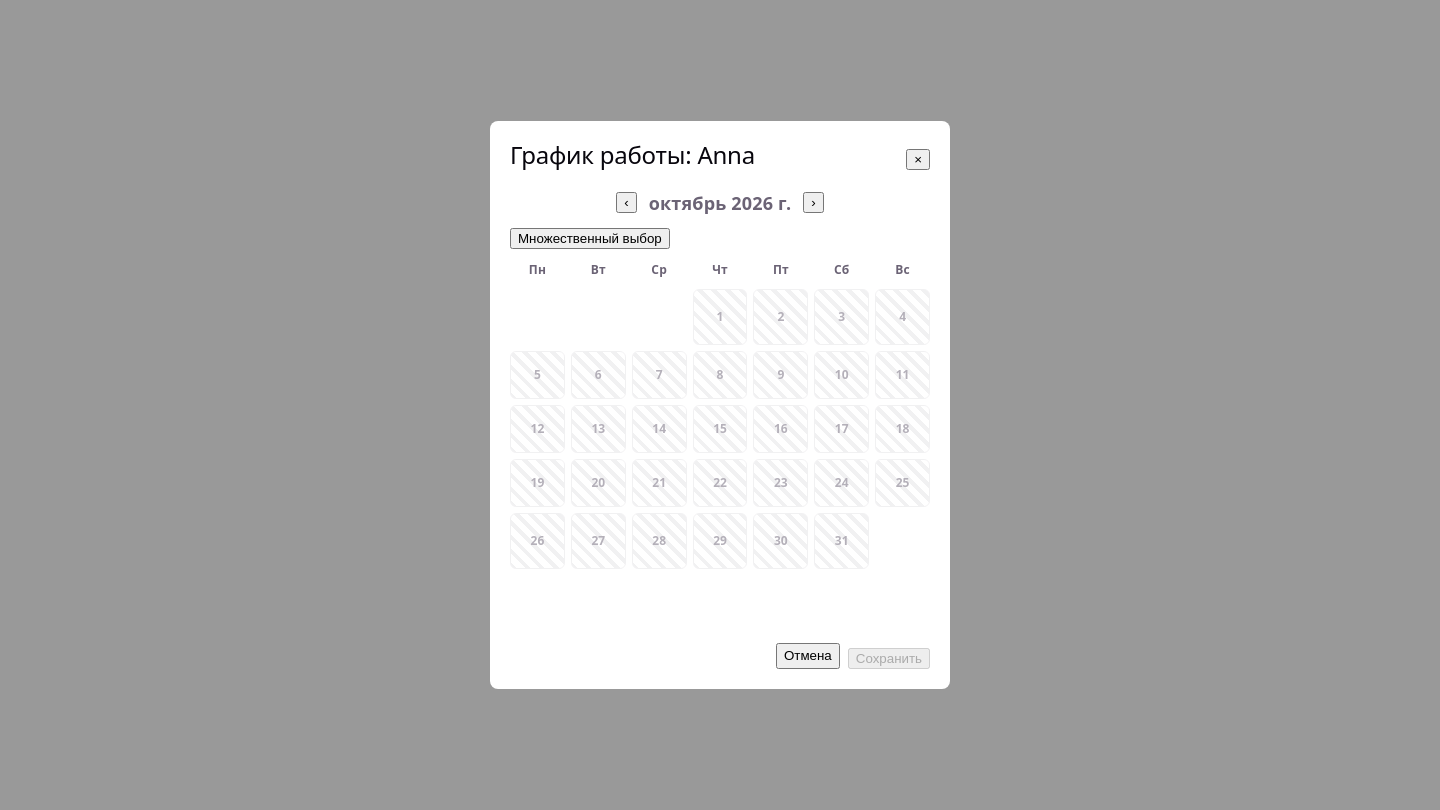
it: MasterScheduleModal › constrains working hours inputs to the salon hours (09:00–19:00)
The width and height of the screenshot is (1440, 810).
Click the button named "День 1" at [720, 317], box [693,289,748,345]
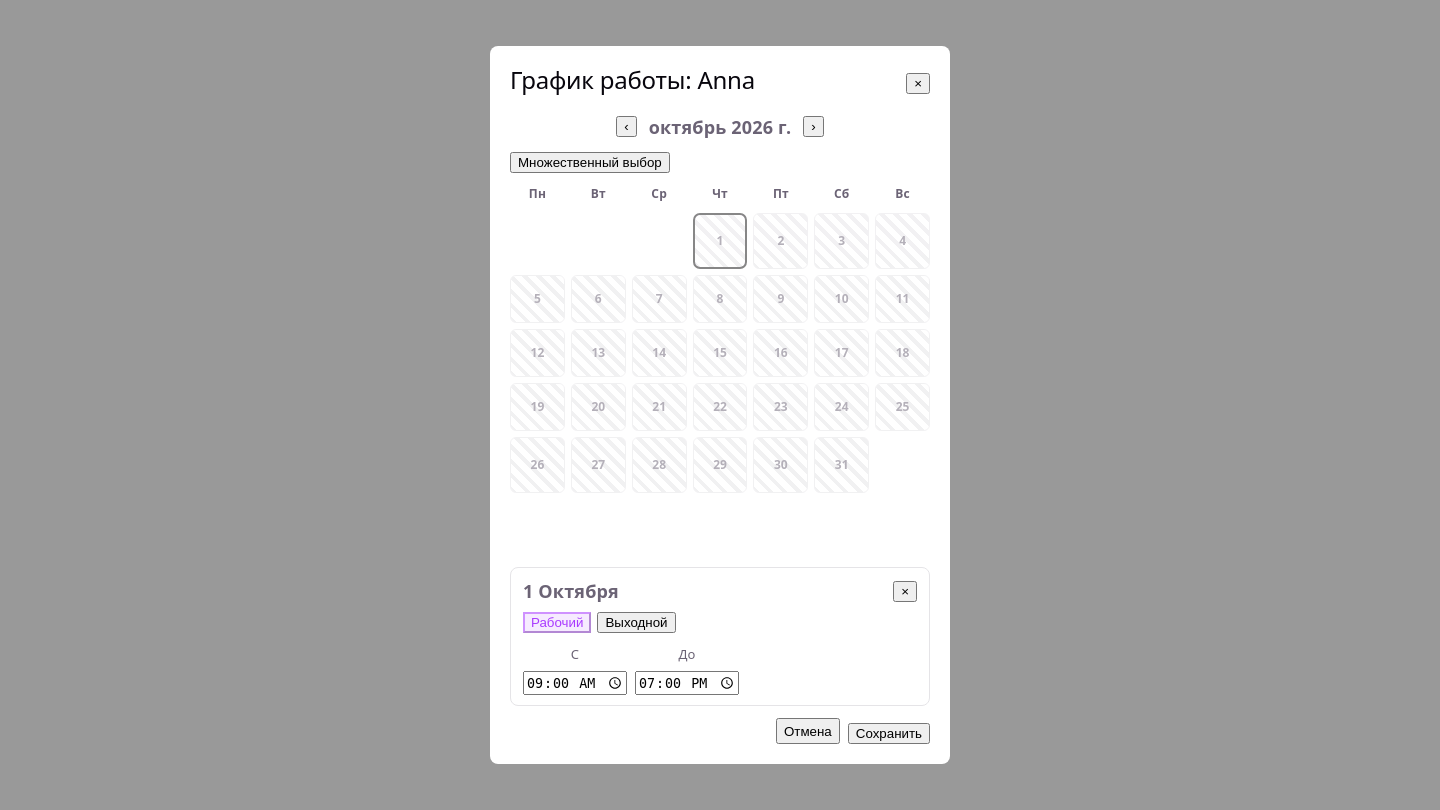
Click the button "Рабочий" at [557, 623], box [523,612,592,633]
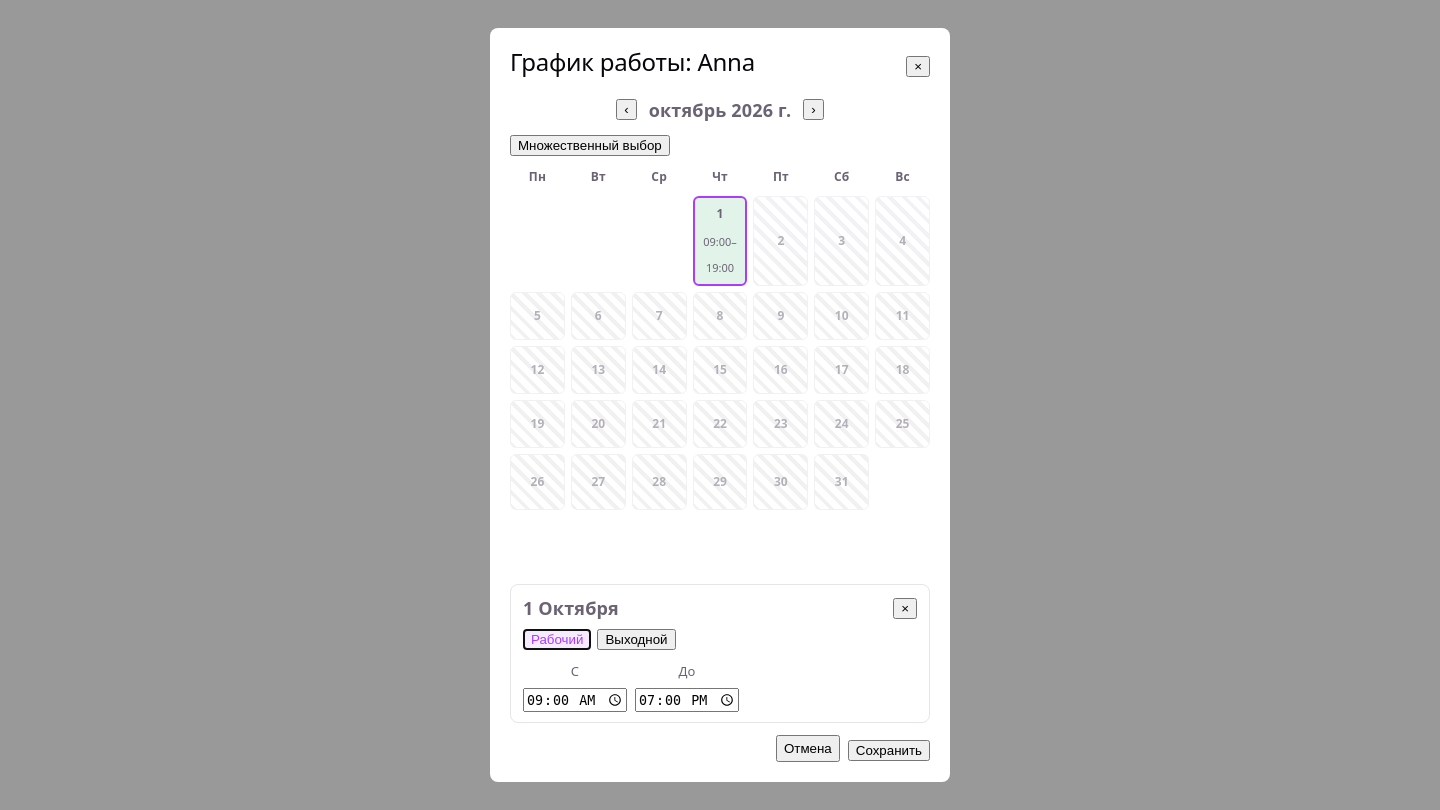
Clear the time field labelled "С" at [575, 700], box [523,688,627,712]
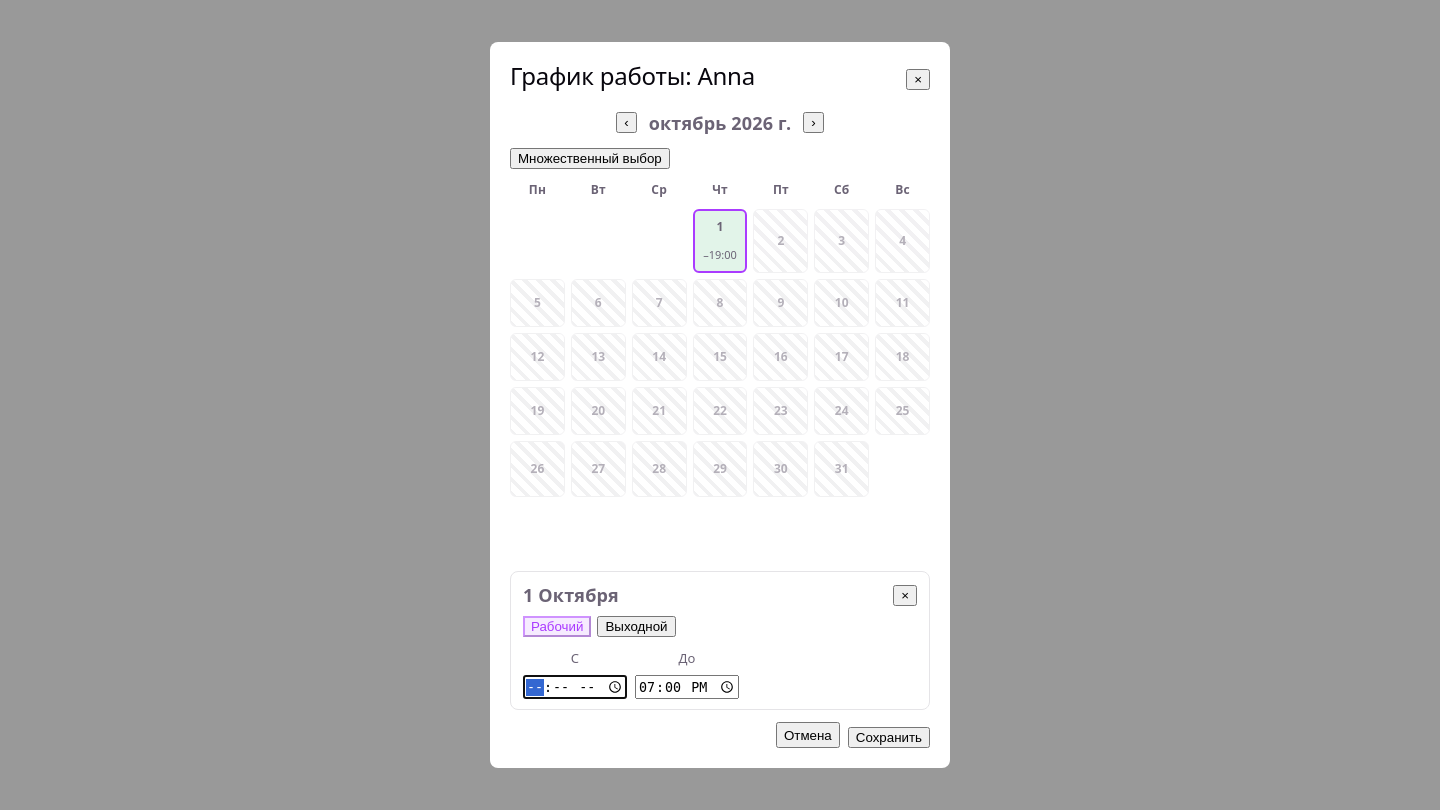
Type "06:00" into the time field labelled "С" at [575, 687], box [523,675,627,699]
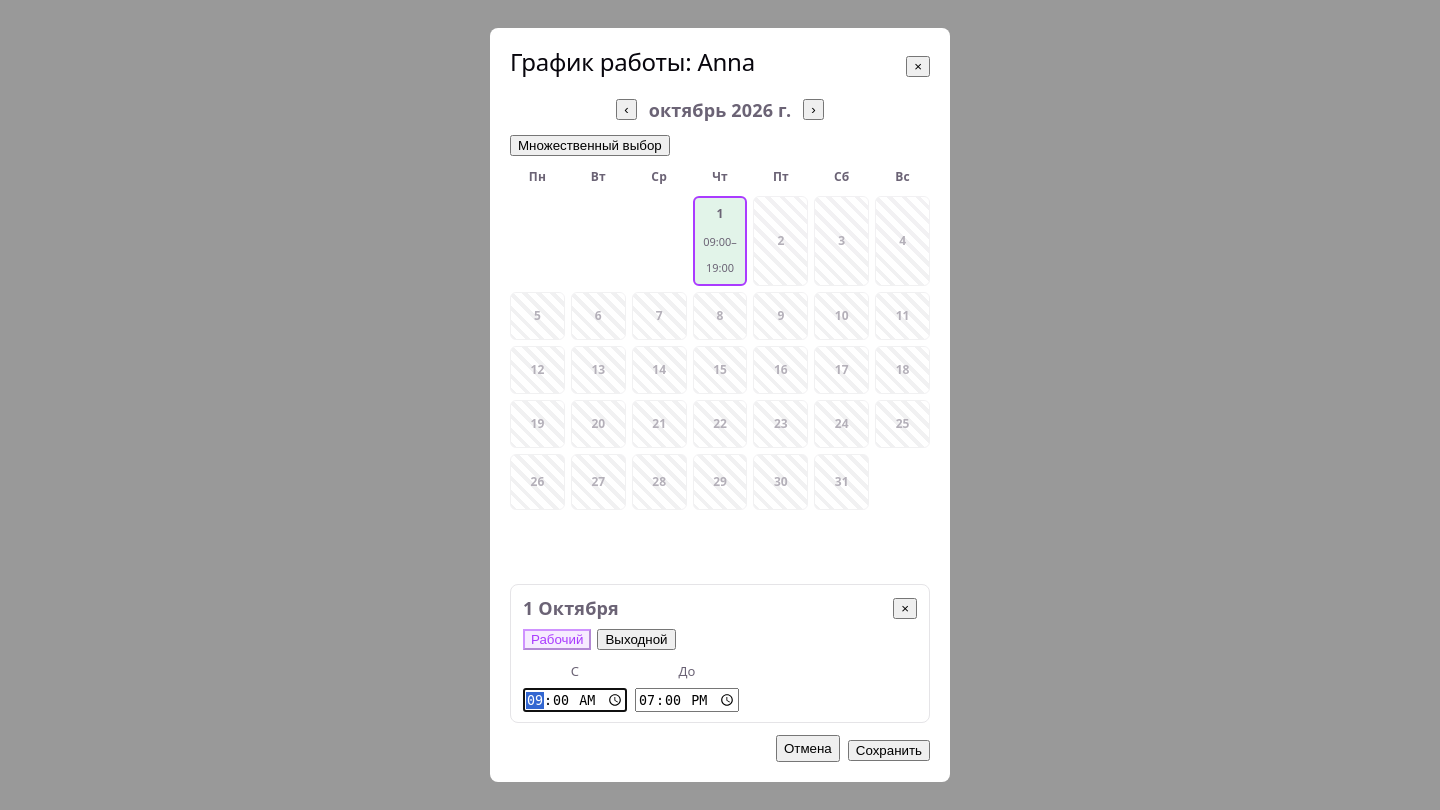
Now the time field labelled "С" holds "09:00", box [523,688,627,712]
Clear the time field labelled "До" at [687, 700], box [635,688,739,712]
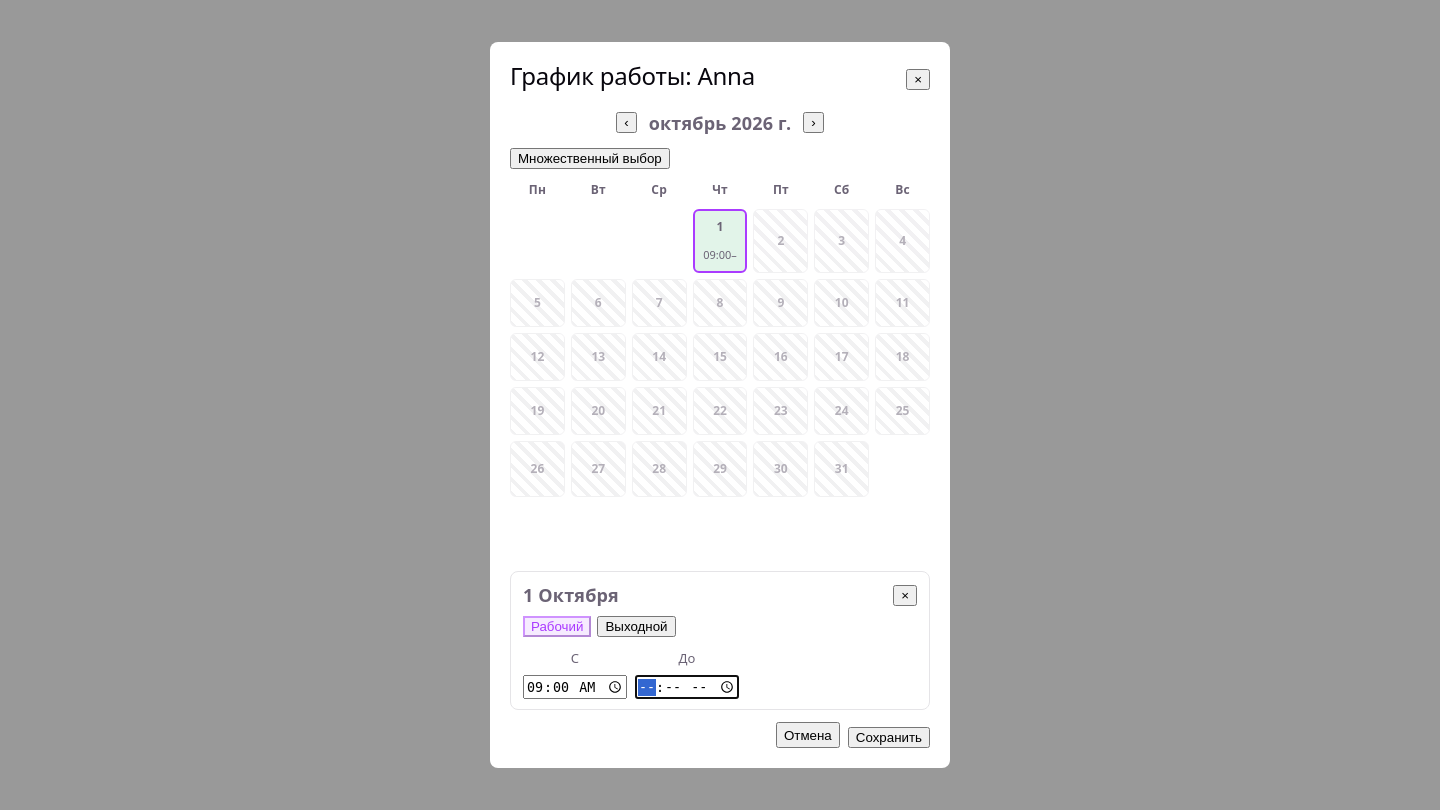
Type "22:00" into the time field labelled "До" at [687, 687], box [635,675,739,699]
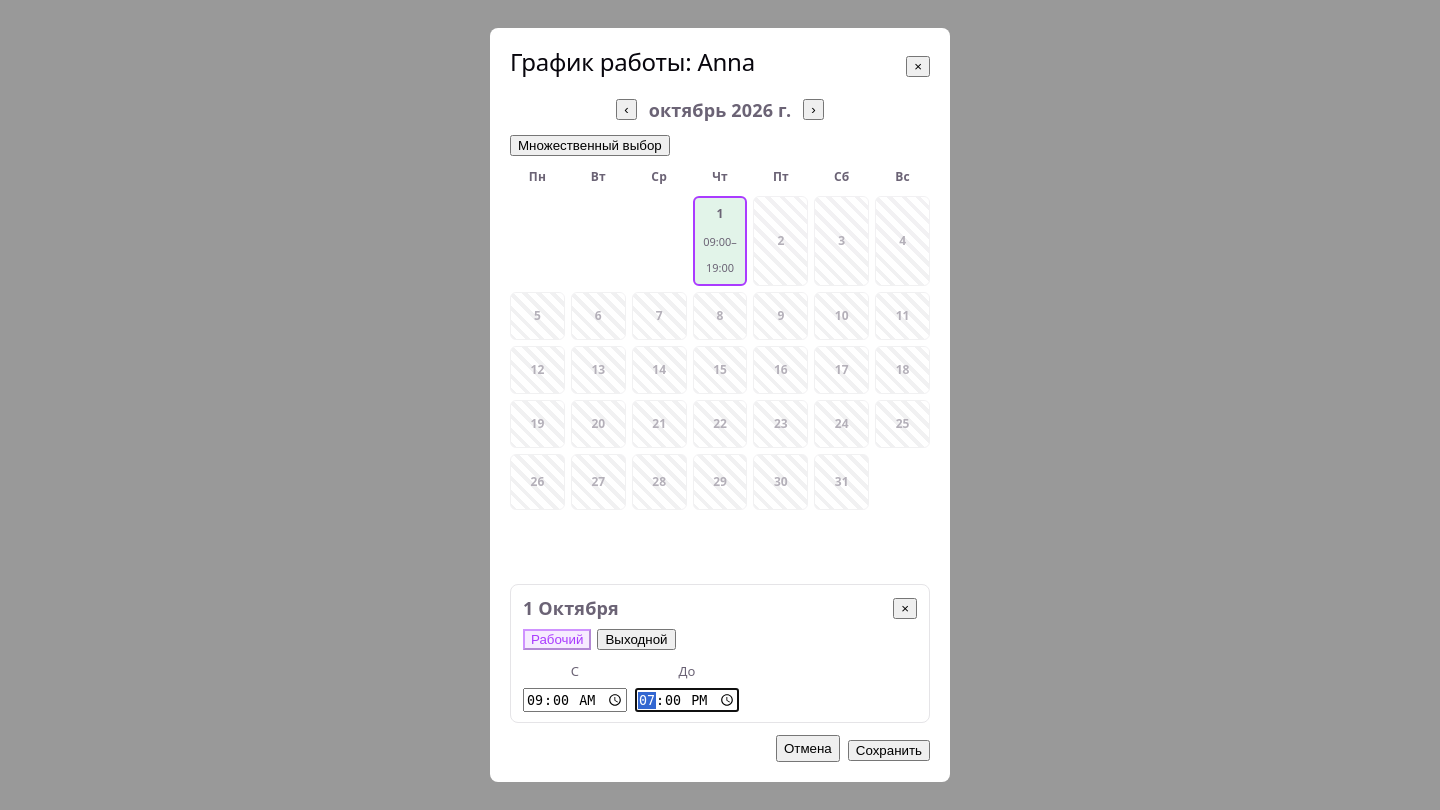
Now the time field labelled "До" holds "19:00", box [635,688,739,712]
